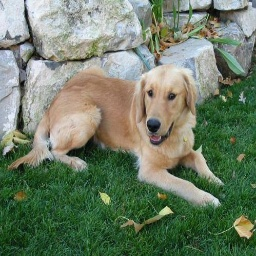dog: (21, 57, 228, 217)
